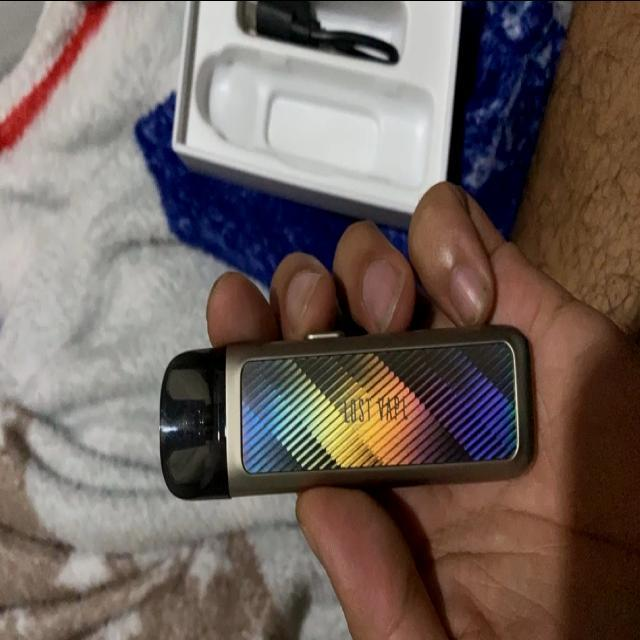Hazard: (158, 322, 535, 498)
